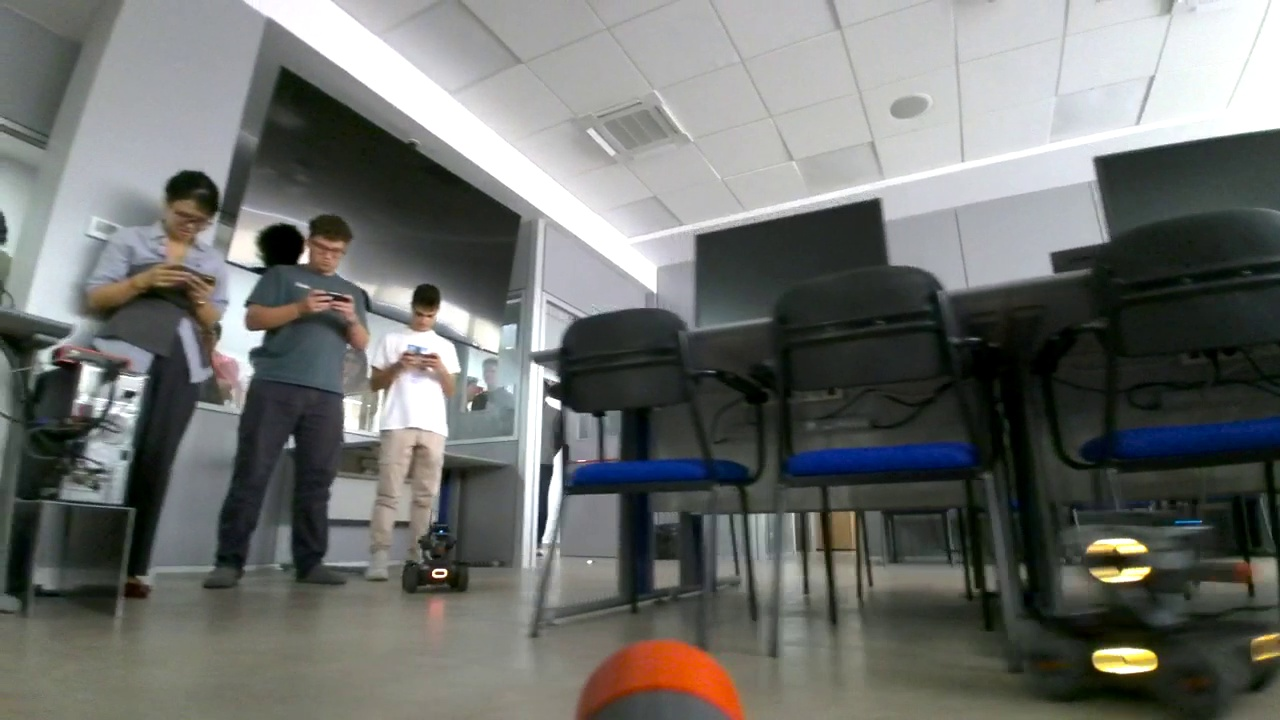robot: (1018, 488, 1280, 715), (403, 511, 470, 593)
